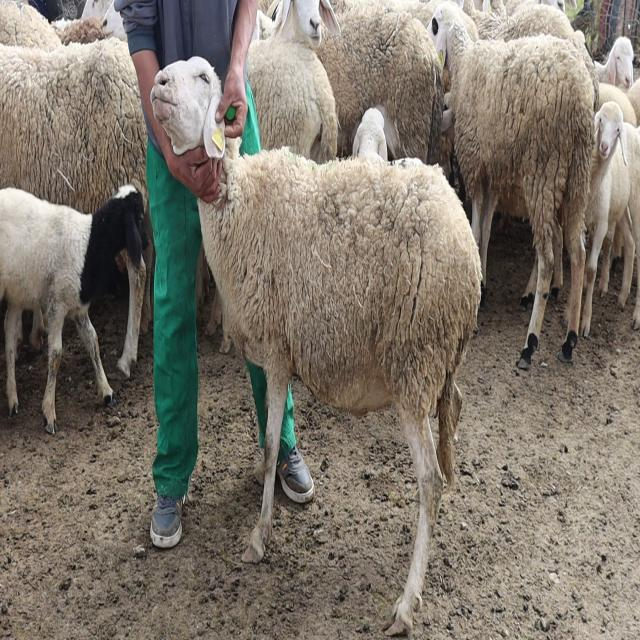Score_3: (150, 57, 481, 636)
